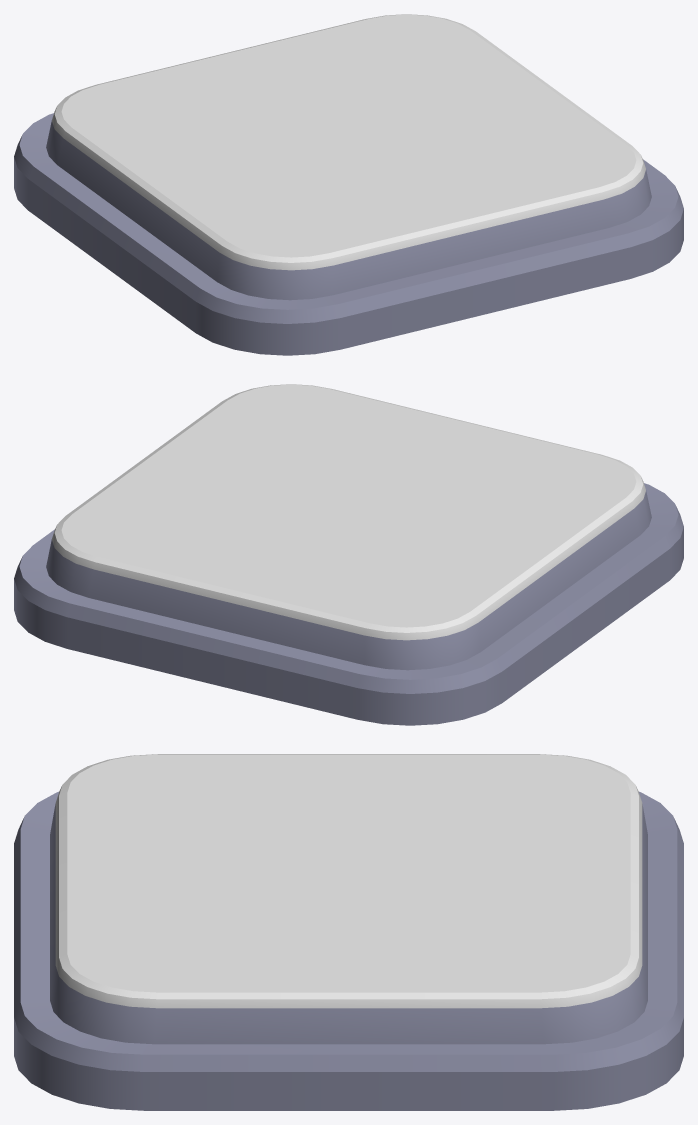
The model's file is Slot.fbx.
3 views of the same model, one above another, from view 1: azimuth 30°, elevation 25°; view 2: azimuth 150°, elevation 25°; view 3: azimuth 270°, elevation 25° (orthographic). The views are drawn at different scales.
Visible parts, largest first — view 1: Cube; view 2: Cube; view 3: Cube.
Part boxes in pixels (bbox=[...]): Cube: bbox=[14, 14, 683, 355]; Cube: bbox=[14, 384, 683, 725]; Cube: bbox=[14, 754, 683, 1110].
Bounding box in the file's own units: 200 × 31.51 × 200.
